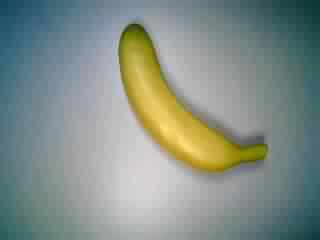banana: (114, 22, 269, 175)
